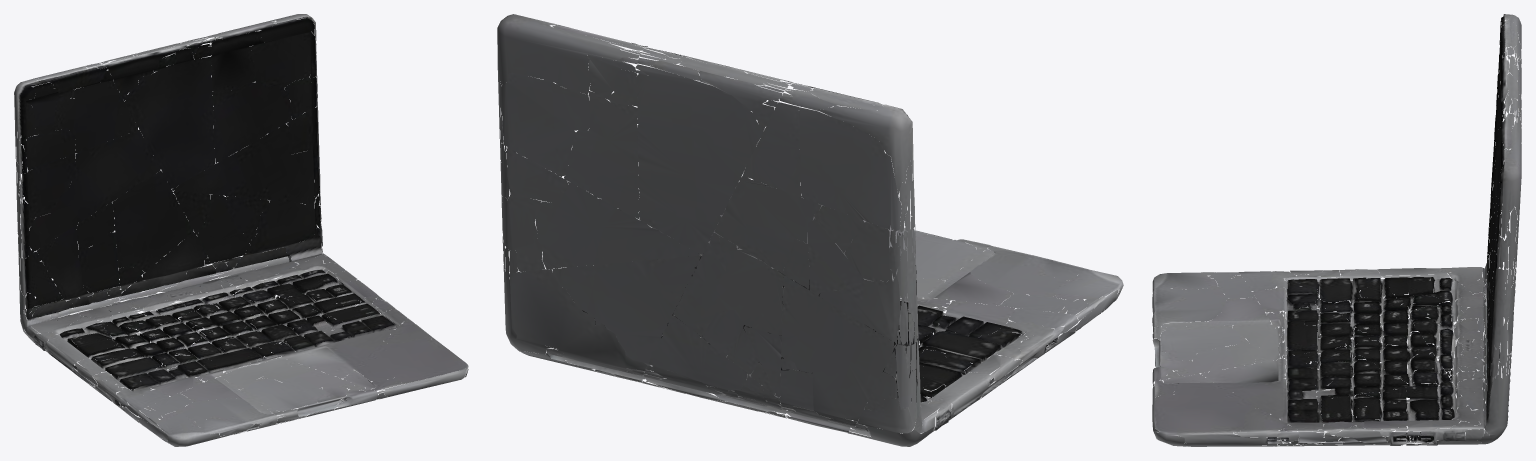
File: tripo-laptop.glb
The picture shows the model from 3 angles, left to right: view 1: azimuth 30°, elevation 25°; view 2: azimuth 150°, elevation 25°; view 3: azimuth 270°, elevation 25°; orthographic projection. The views are drawn at different scales.
Parts seen in each view (by area): view 1: tripo_node_35e5565a-8939-4e7d-8c33-3c8dfb30d1e1; view 2: tripo_node_35e5565a-8939-4e7d-8c33-3c8dfb30d1e1; view 3: tripo_node_35e5565a-8939-4e7d-8c33-3c8dfb30d1e1.
Part boxes in pixels (x1,y1,x2,y2): tripo_node_35e5565a-8939-4e7d-8c33-3c8dfb30d1e1: (14, 14, 468, 446); tripo_node_35e5565a-8939-4e7d-8c33-3c8dfb30d1e1: (497, 14, 1123, 446); tripo_node_35e5565a-8939-4e7d-8c33-3c8dfb30d1e1: (1152, 14, 1521, 446).
Size of the model in its own units: 0.9852 by 0.8058 by 0.9434.
1 material, 1 textured.
